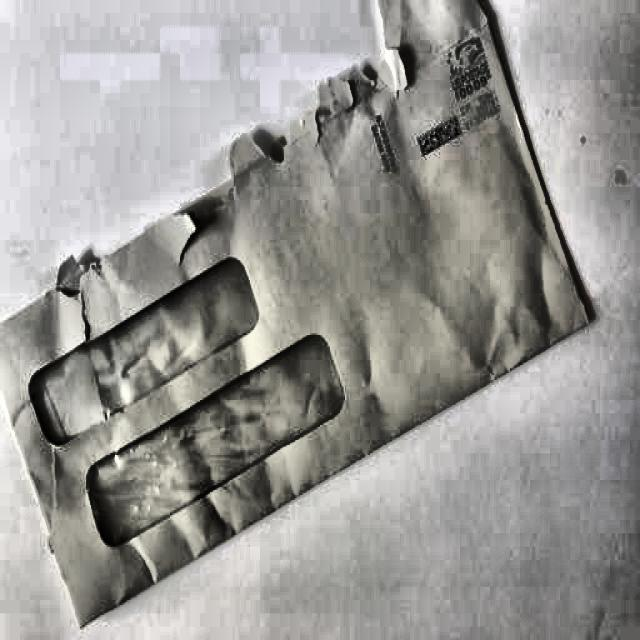paper: (12, 23, 596, 600)
